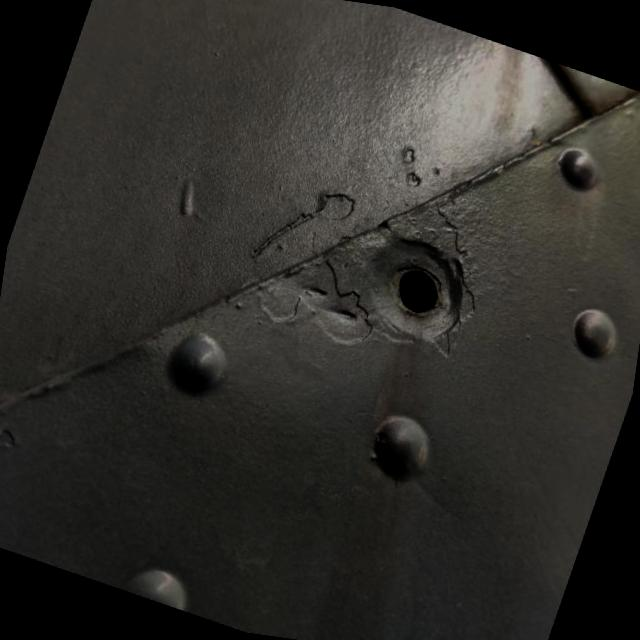Missing Fastener: (391, 255, 454, 328)
